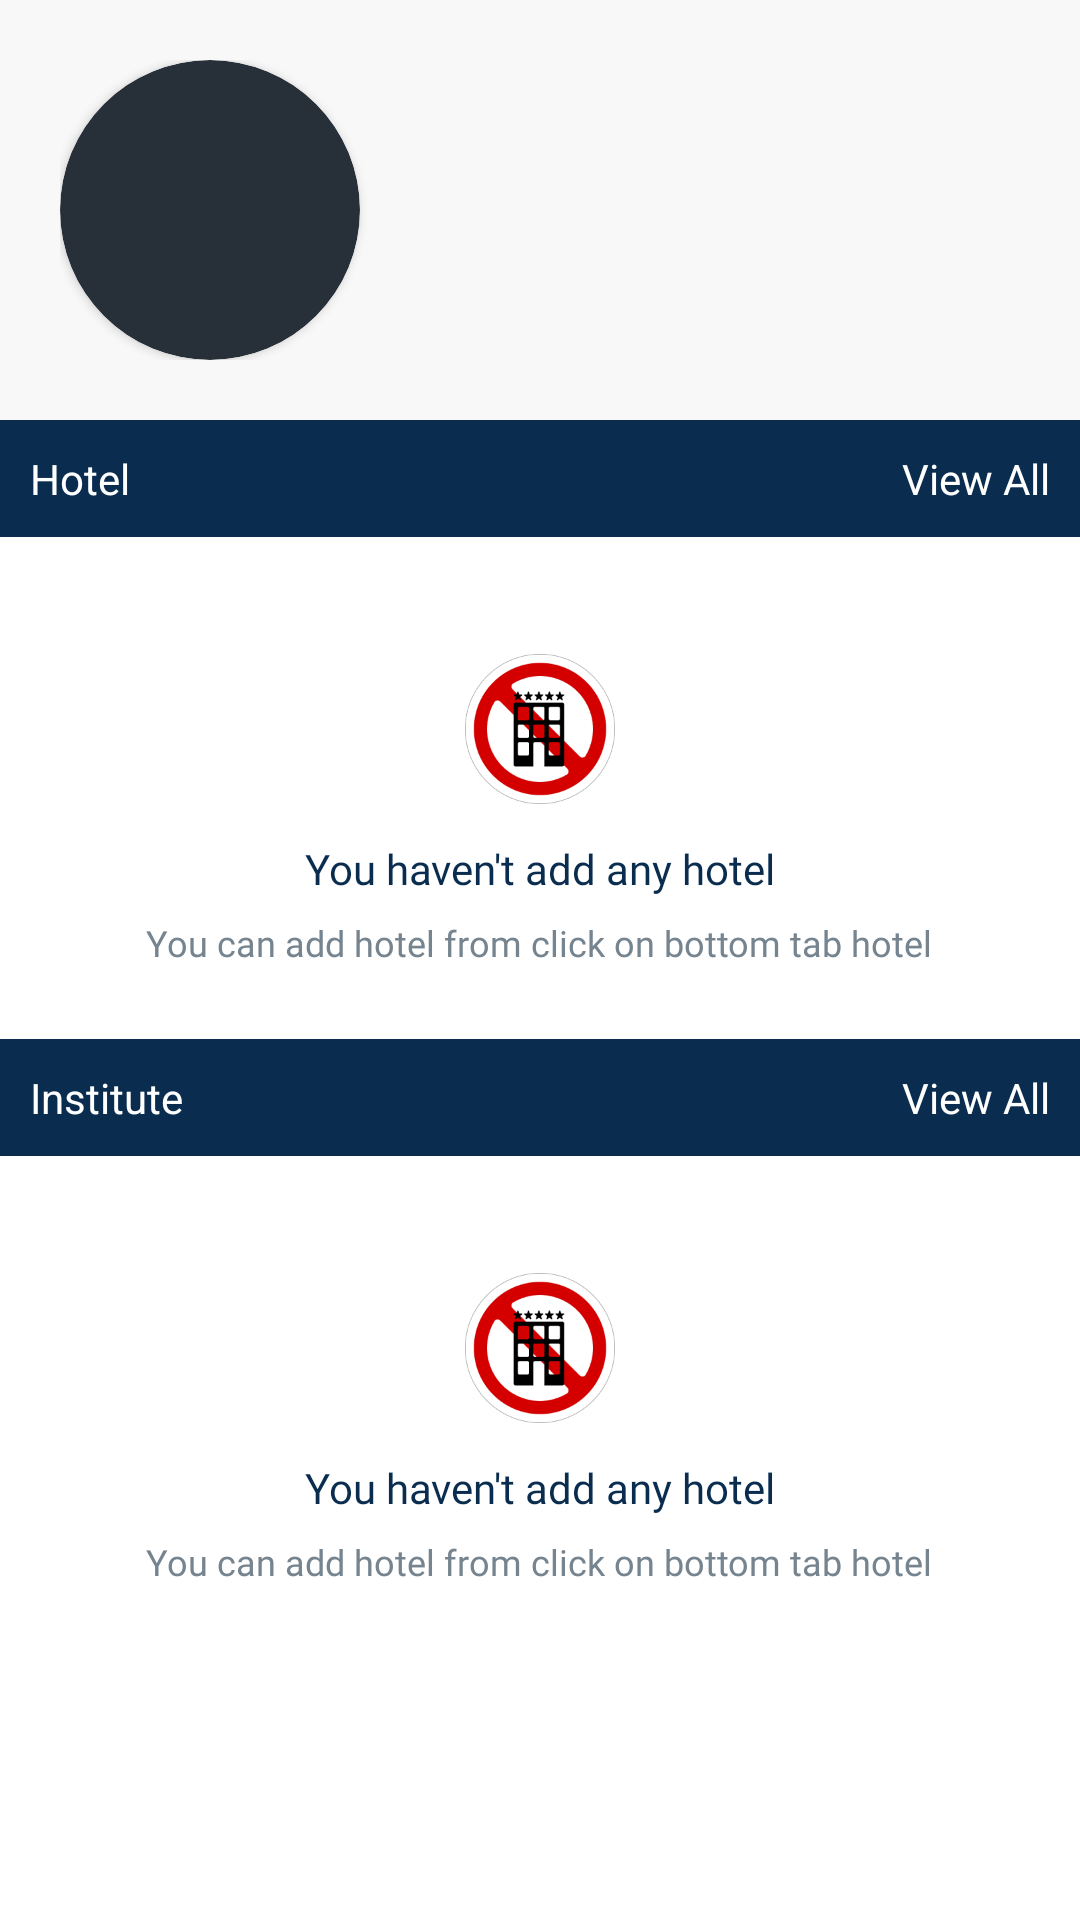

Where to tap for icons on this 1080*1920 app screen, as (x,y):
no hotel: (540,729), (540,1348)
